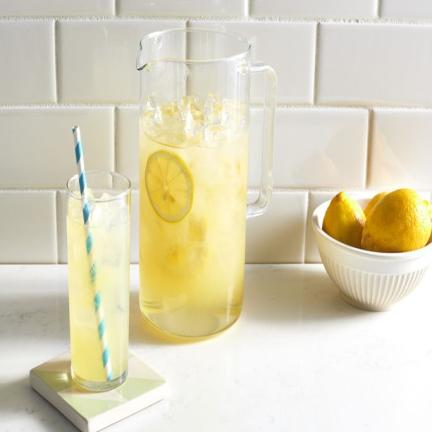container: (137, 28, 252, 335), (66, 170, 132, 390)
fluid: (139, 125, 249, 335), (68, 209, 131, 390)
fluid-surface: (141, 106, 249, 147), (68, 197, 129, 225)
